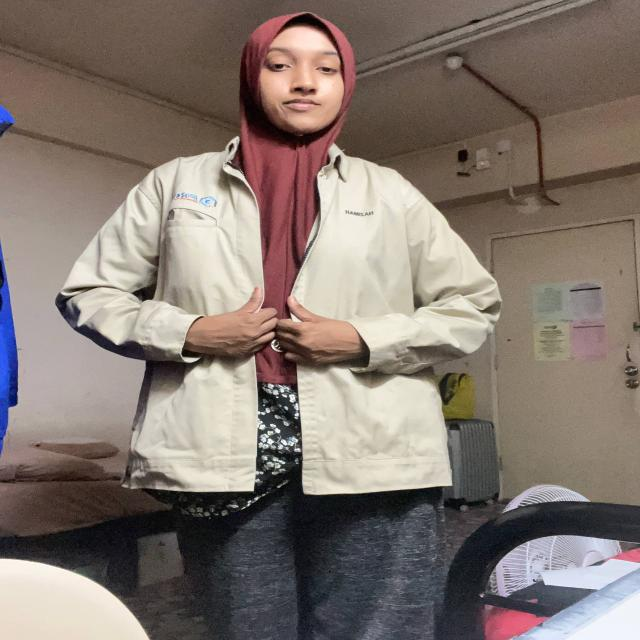person_with_labcoat: (56, 12, 501, 640)
